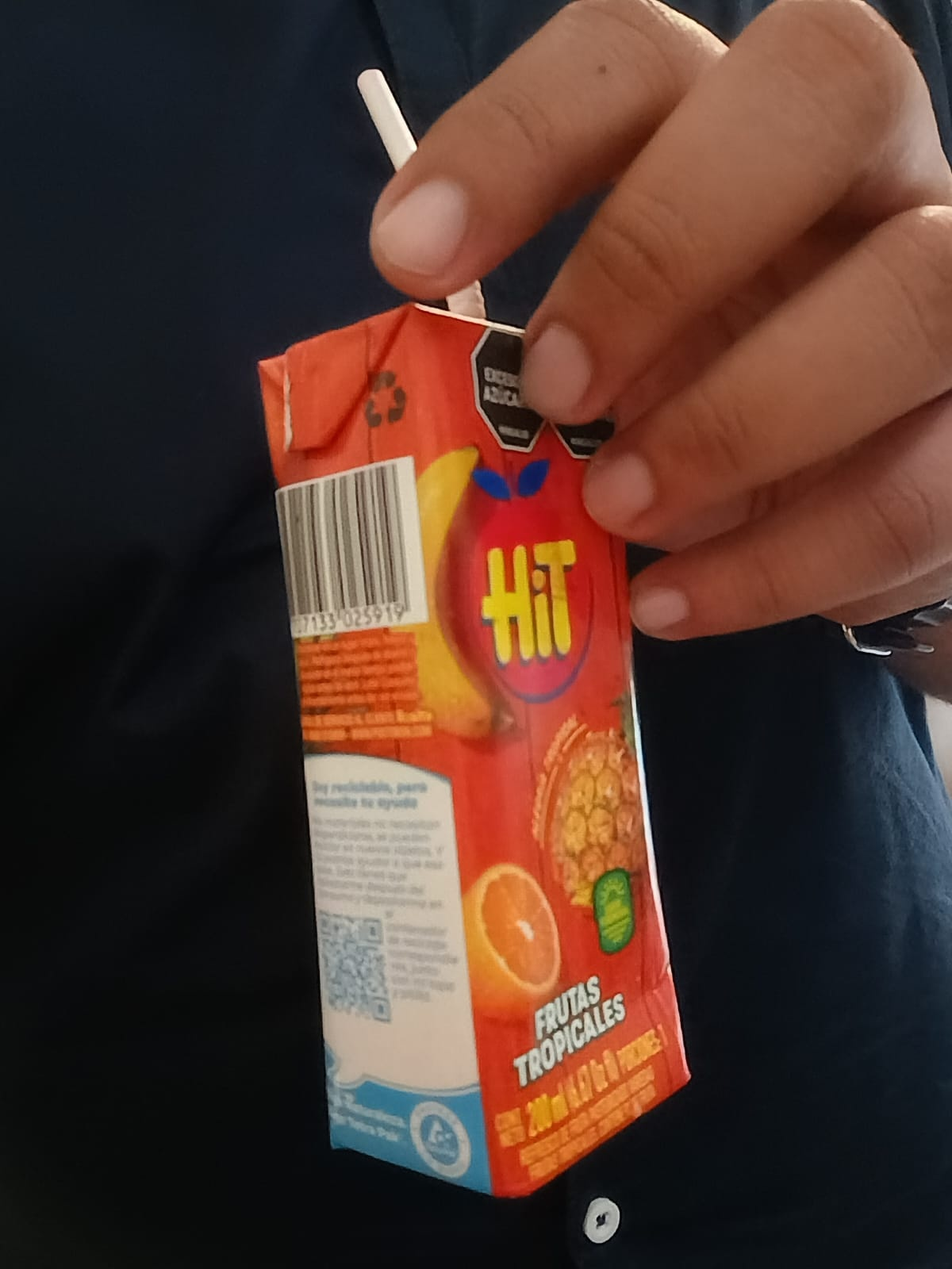Carton: (260, 310, 690, 1198)
